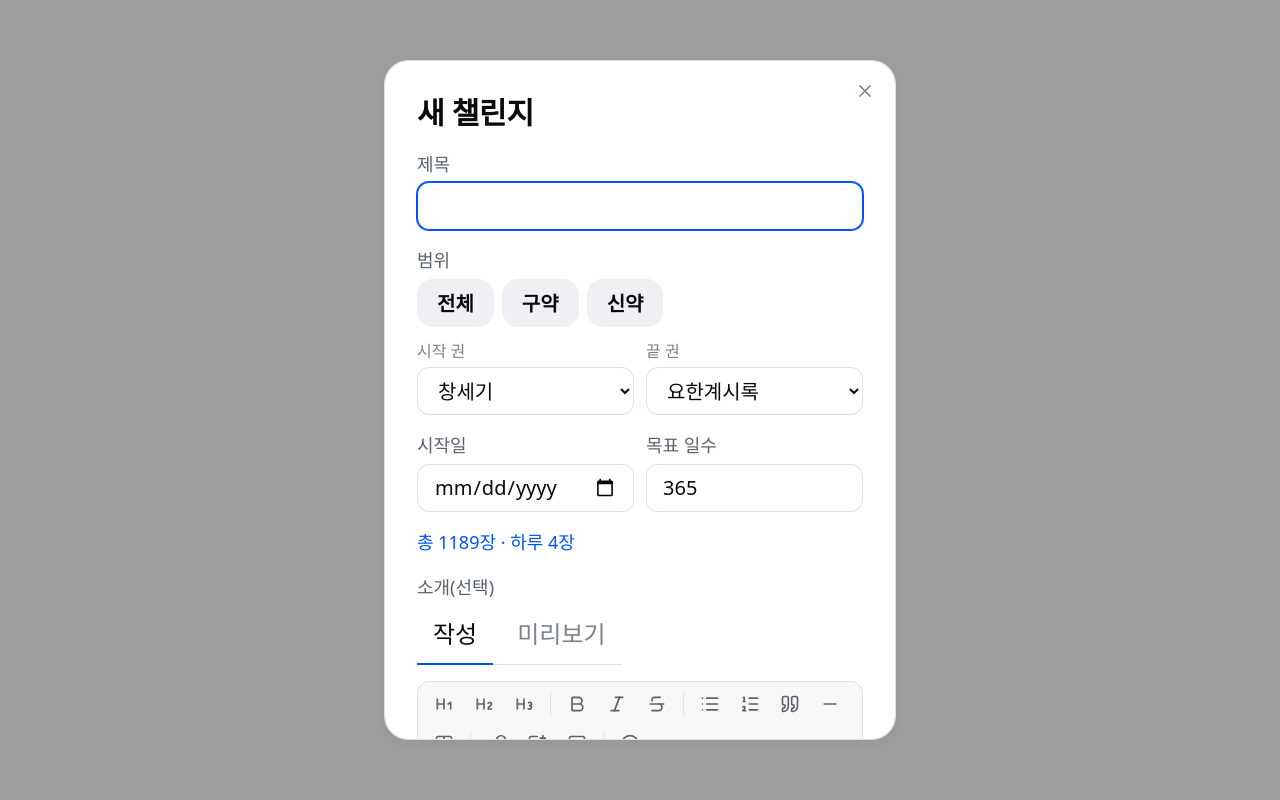
Test: ChallengeFormDialog › 시작 권 > 끝 권이면 검증 에러
This screenshot has width=1280, height=800.
Type "T" into the field labelled "제목" at point(640, 206), box [417,182,863,230]
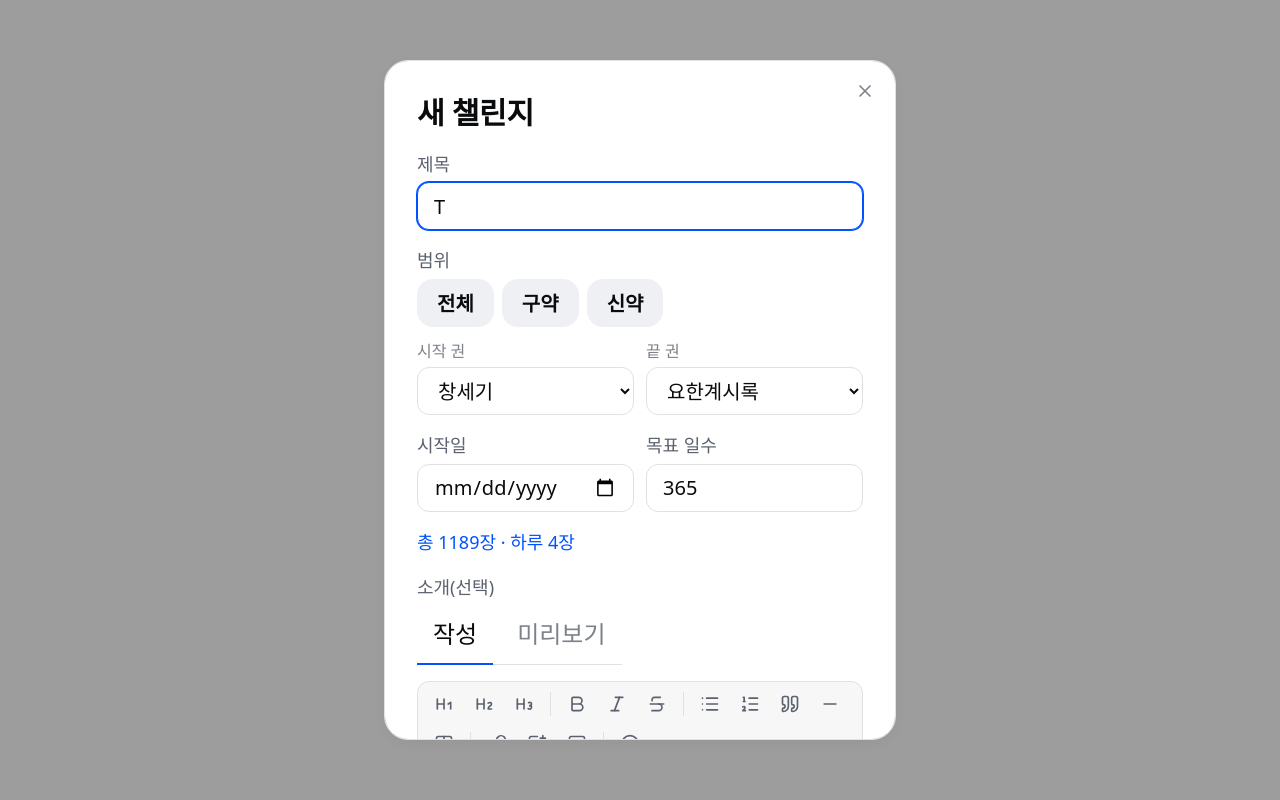
Select "마태복음" in the dropdown labelled "시작 권" at point(526, 391), box [417,367,634,415]
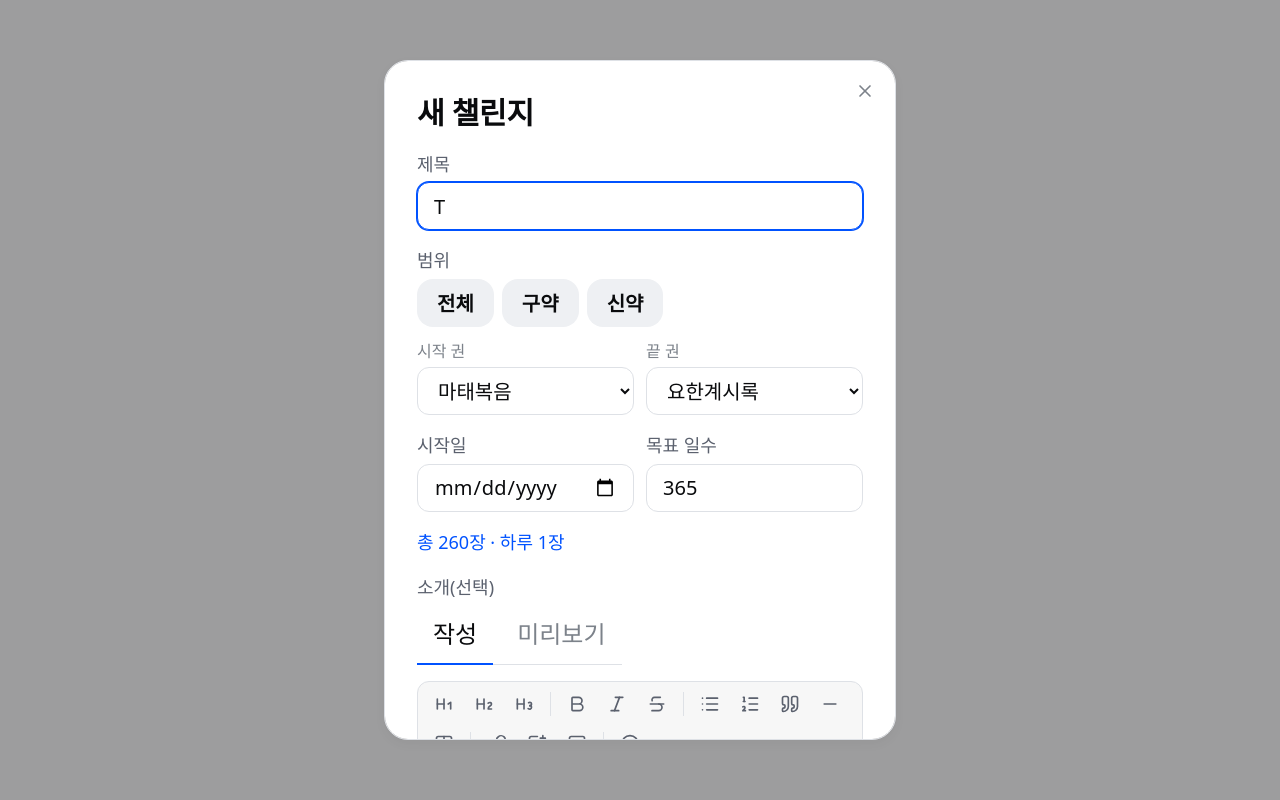
Select "창세기" in the dropdown labelled "끝 권" at point(754, 391), box [646,367,863,415]
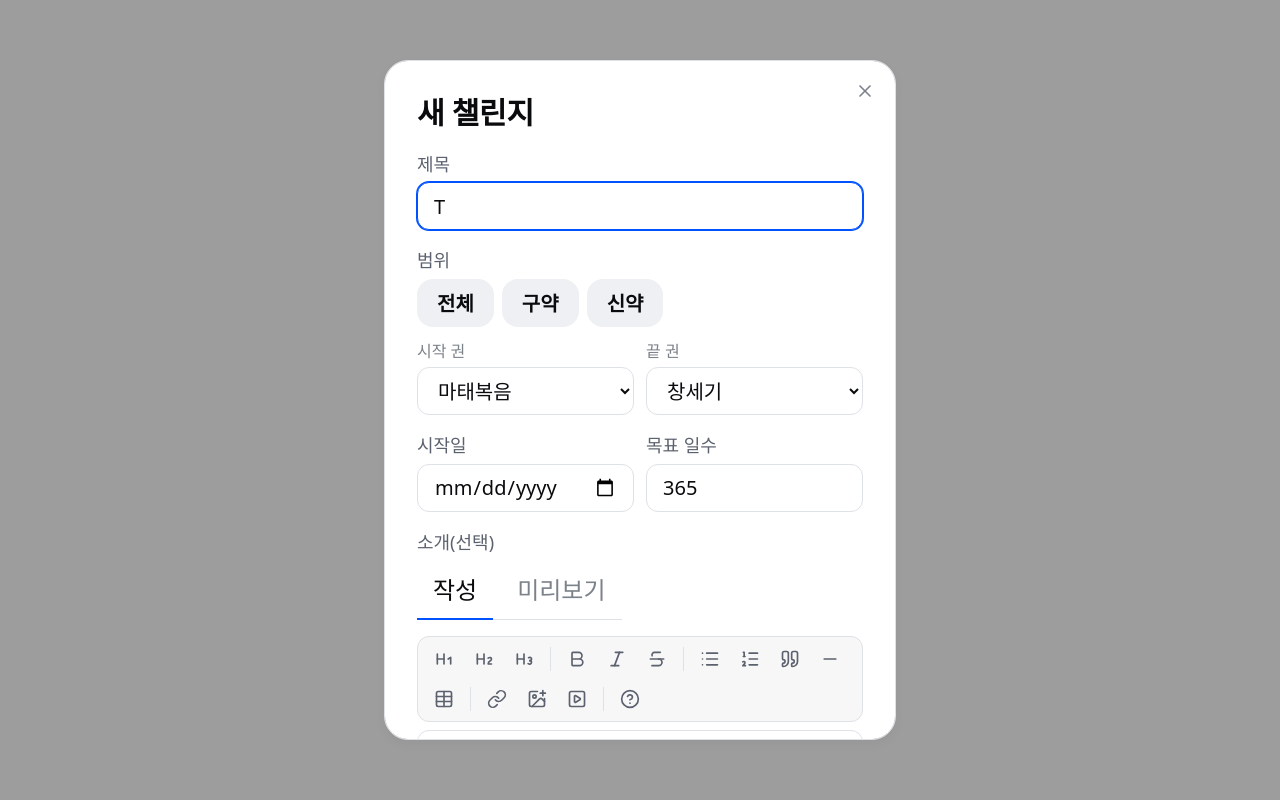
Type "2026-01-05" into the date field labelled "시작일" at point(526, 488), box [417,464,634,512]
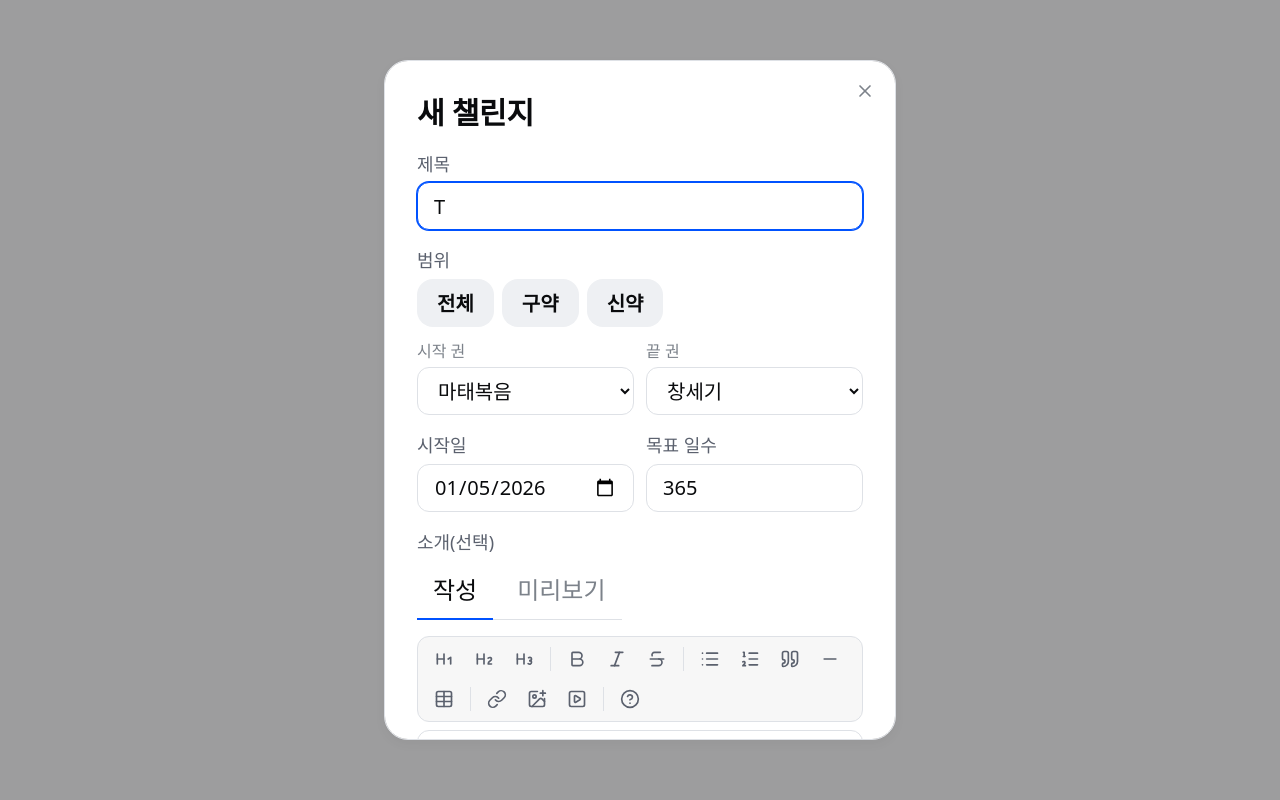
Replace the text in the number field labelled "목표 일수" with "65" at point(754, 488), box [646,464,863,512]
(page scrolled)
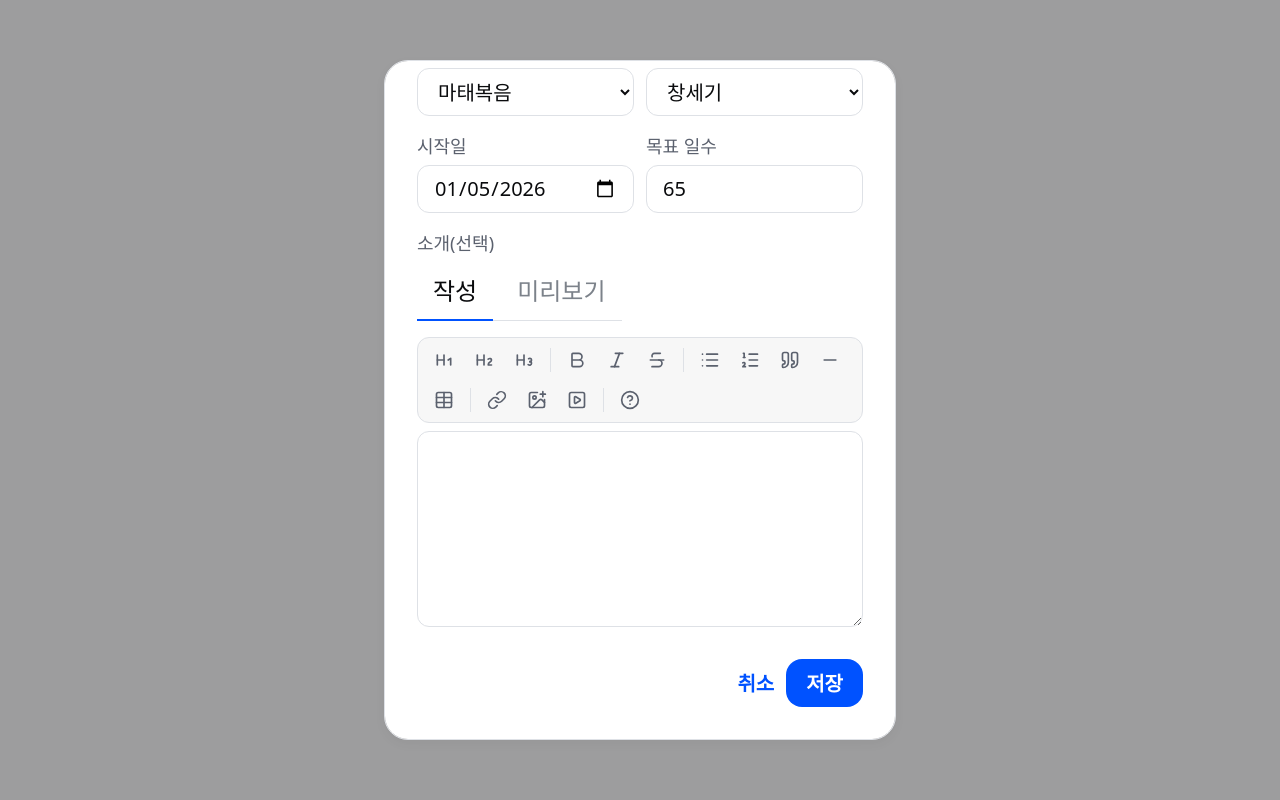
Click the button "저장" at point(825, 683), box [786,659,863,707]
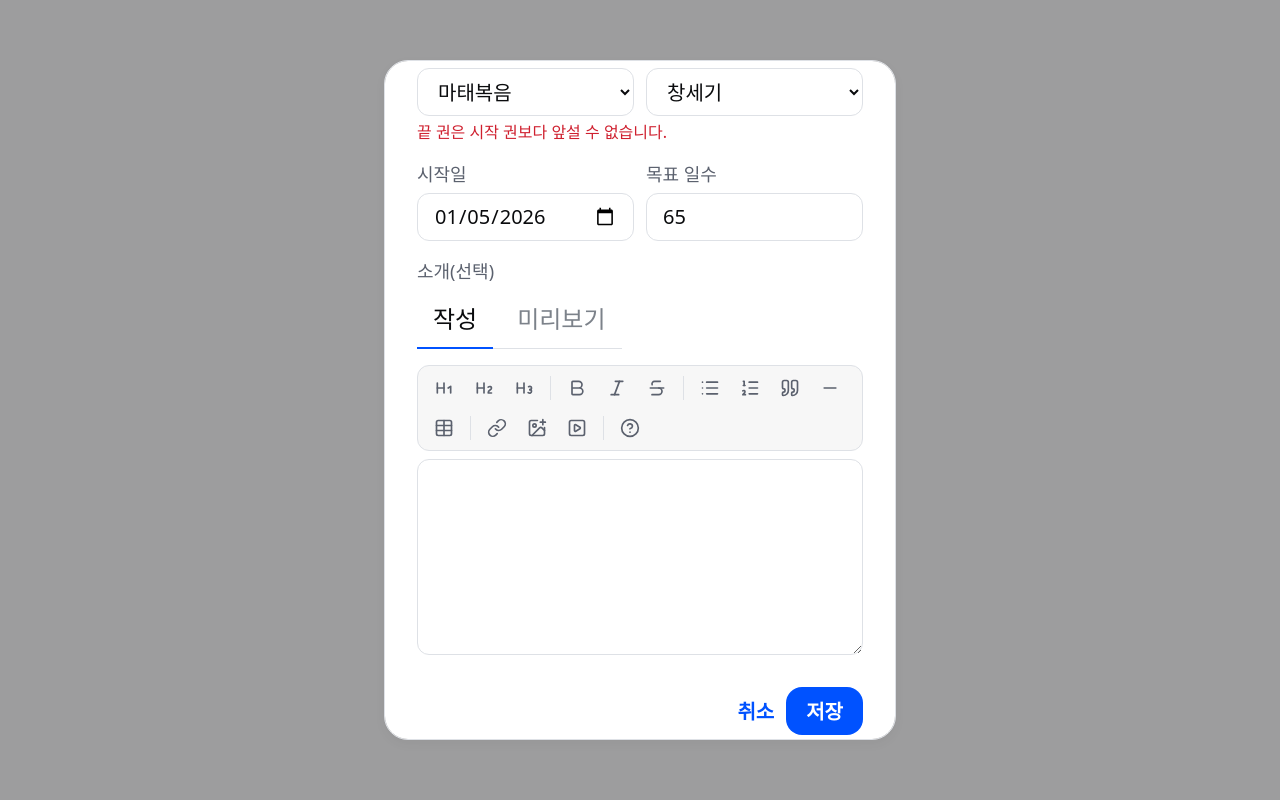
Expected: the text "끝 권은 시작 권보다 앞설 수 없습니다." is shown, [417,121,667,143]
